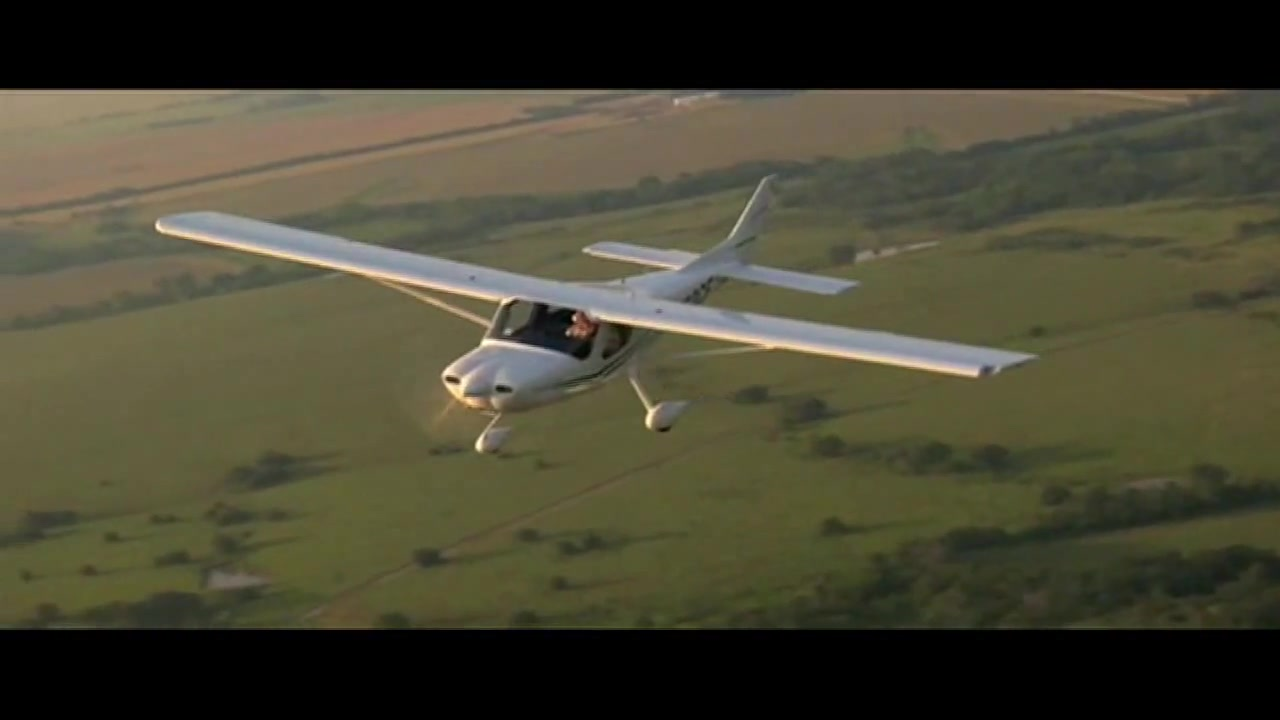aeroplane: (155, 173, 1041, 458)
